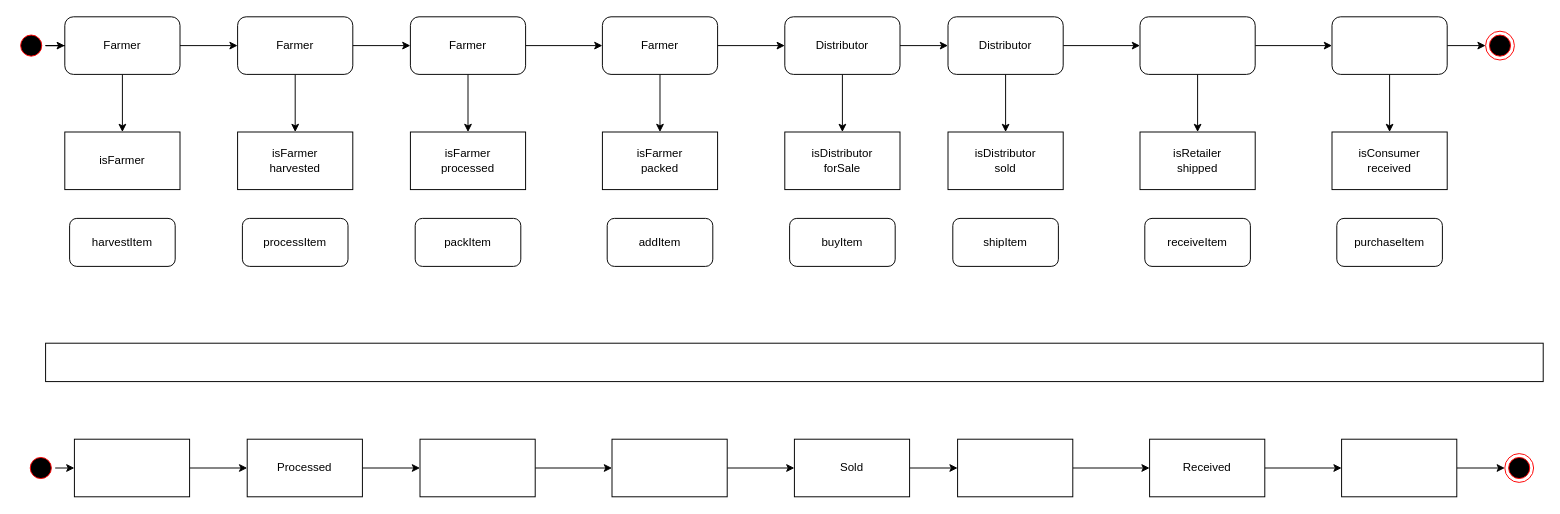
Some shapes in this 1560 by 514 pixel diagram are drawn without their labels. Here are the shapes that lost their labels. From the top down, the centre of each, then its label:
(x=1197, y=45): Retailer
(x=1389, y=45): Consumer
(x=794, y=362): Coffee State
(x=131, y=467): Harvested
(x=477, y=467): Packed
(x=669, y=467): For Sale
(x=1015, y=467): Shipped
(x=1399, y=467): Purchased
